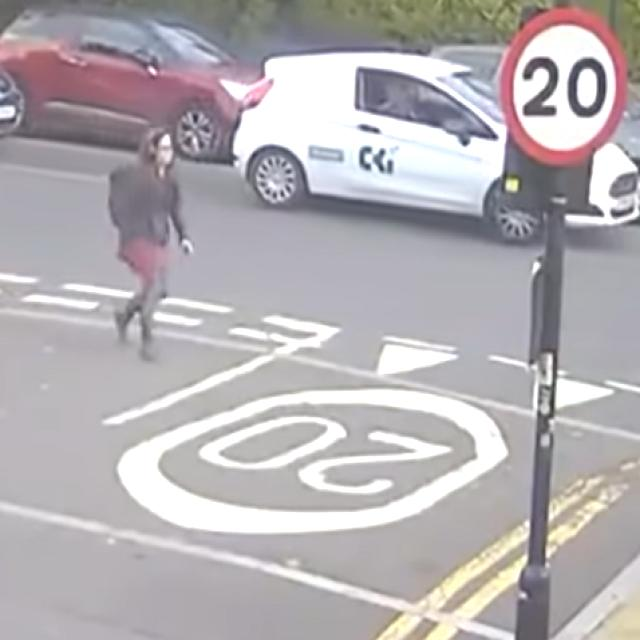Car: (226, 41, 640, 253), (0, 0, 267, 171)
